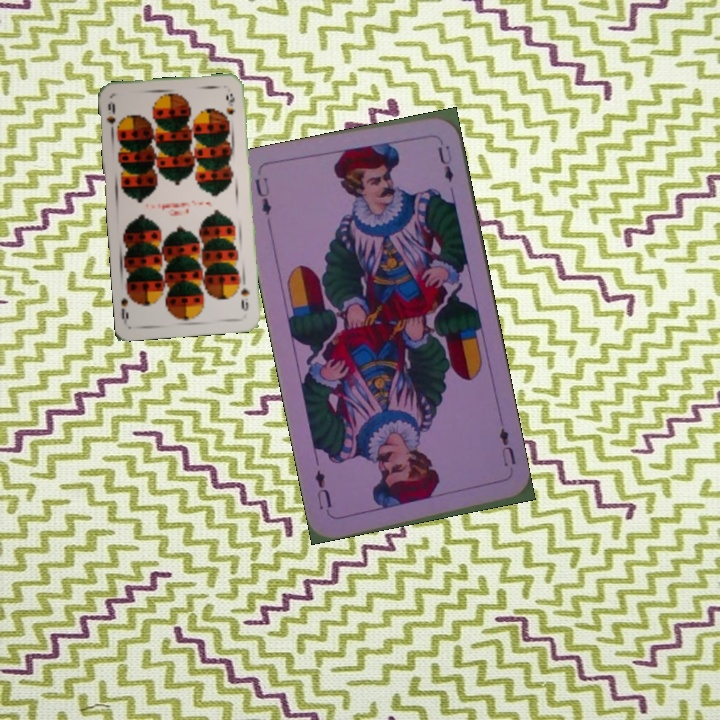EU: (495, 424, 518, 469), (251, 173, 274, 218)
S9: (235, 275, 252, 313), (103, 98, 118, 137)
